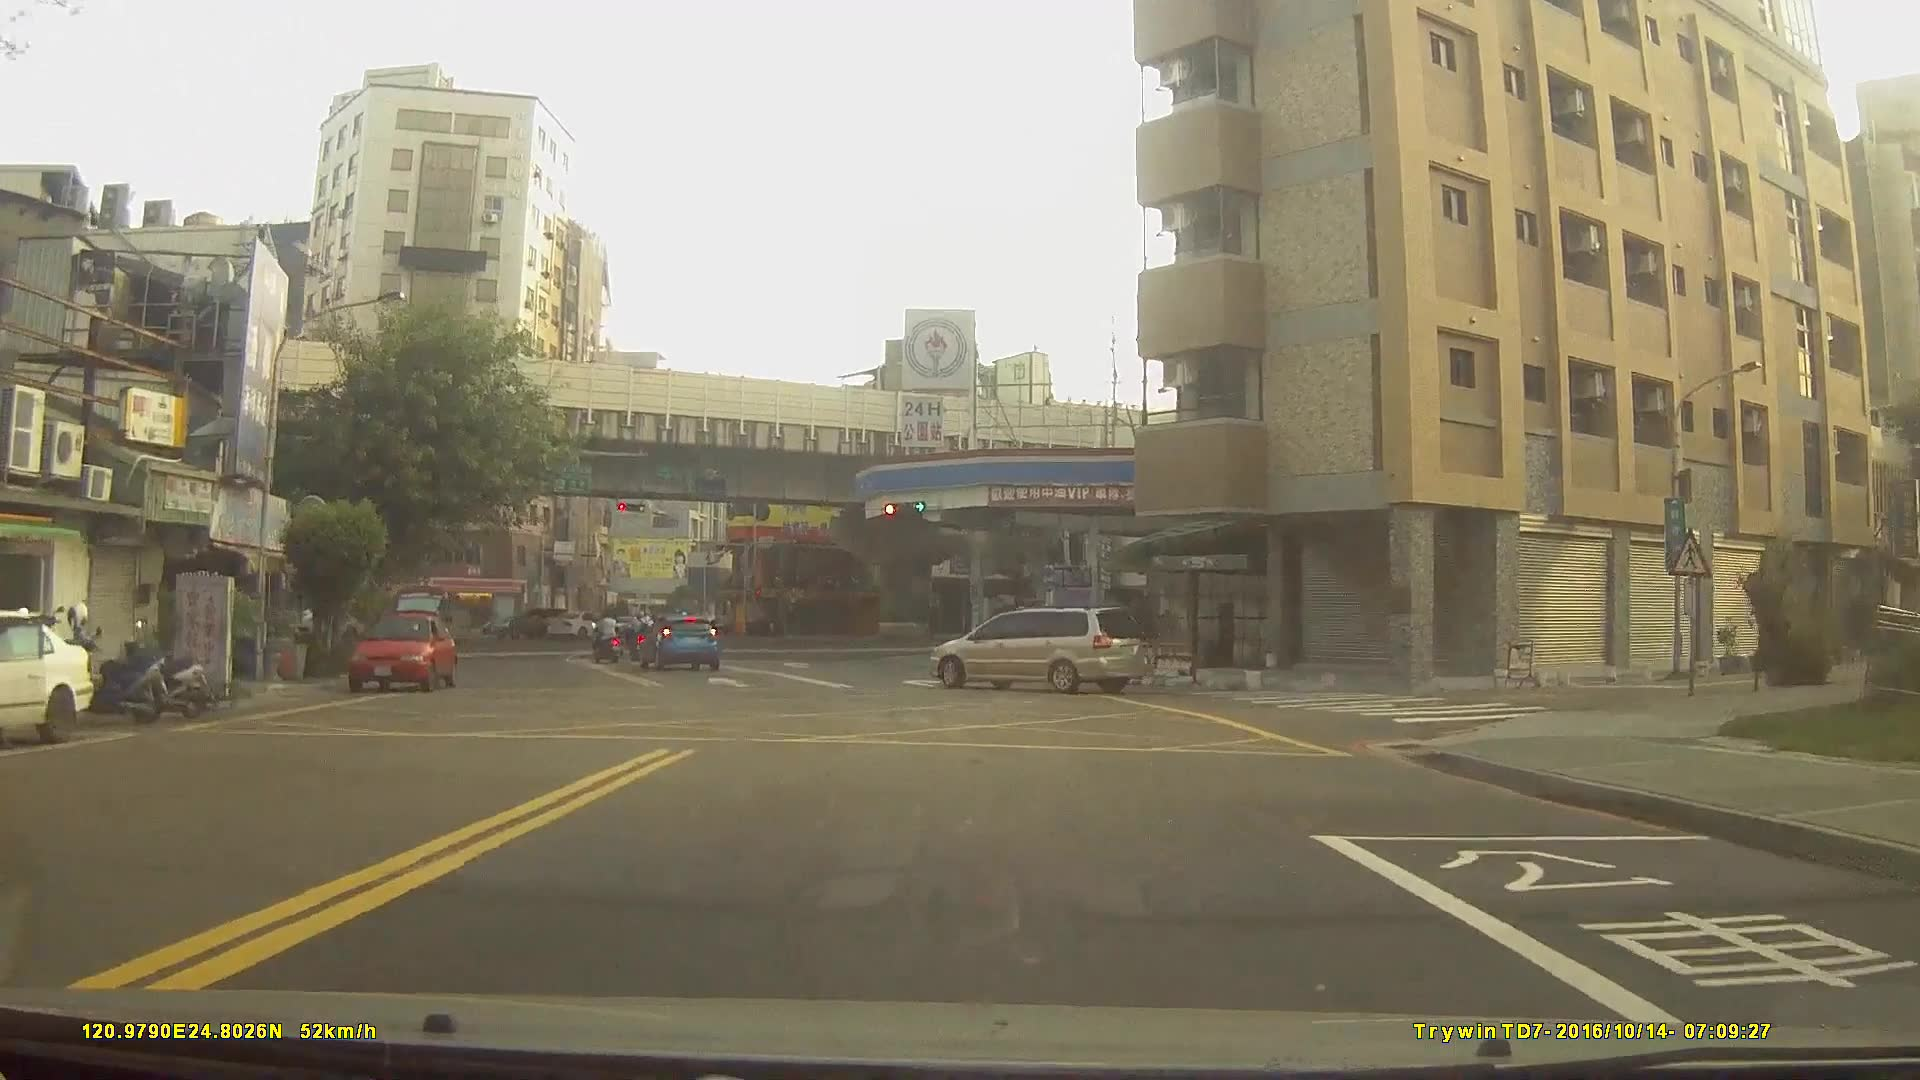rider: (591, 613, 623, 665)
vehicle: (928, 605, 1147, 692), (0, 610, 93, 746), (345, 611, 459, 691), (631, 614, 717, 670), (487, 608, 567, 641), (543, 610, 618, 640)
